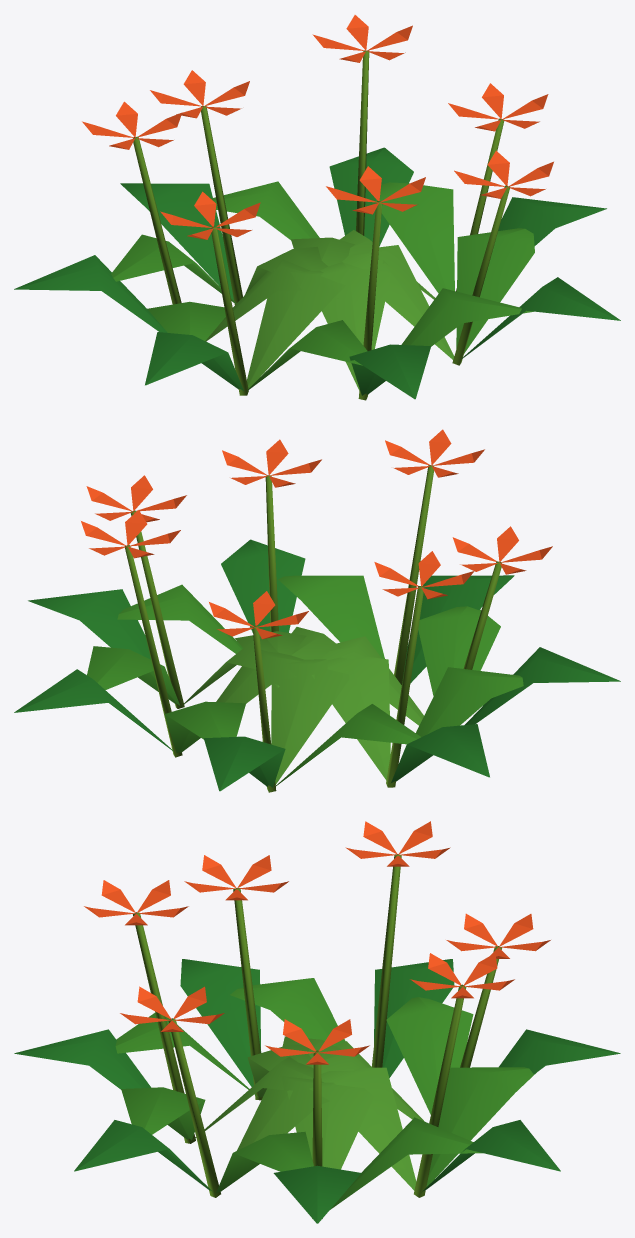
The model's file is flower_cluster.glb.
The picture shows the model from 3 angles, top to bottom: view 1: azimuth 30°, elevation 25°; view 2: azimuth 150°, elevation 25°; view 3: azimuth 270°, elevation 25°; orthographic projection. The views are drawn at different scales.
Parts seen in each view (by area): view 1: flower_cluster; view 2: flower_cluster; view 3: flower_cluster.
Part boxes in pixels (x1=…): flower_cluster: x1=14, y1=15, x2=620, y2=400; flower_cluster: x1=14, y1=429, x2=620, y2=792; flower_cluster: x1=14, y1=821, x2=620, y2=1223.
Size of the model in its own units: 1.35 by 0.5681 by 1.31.
